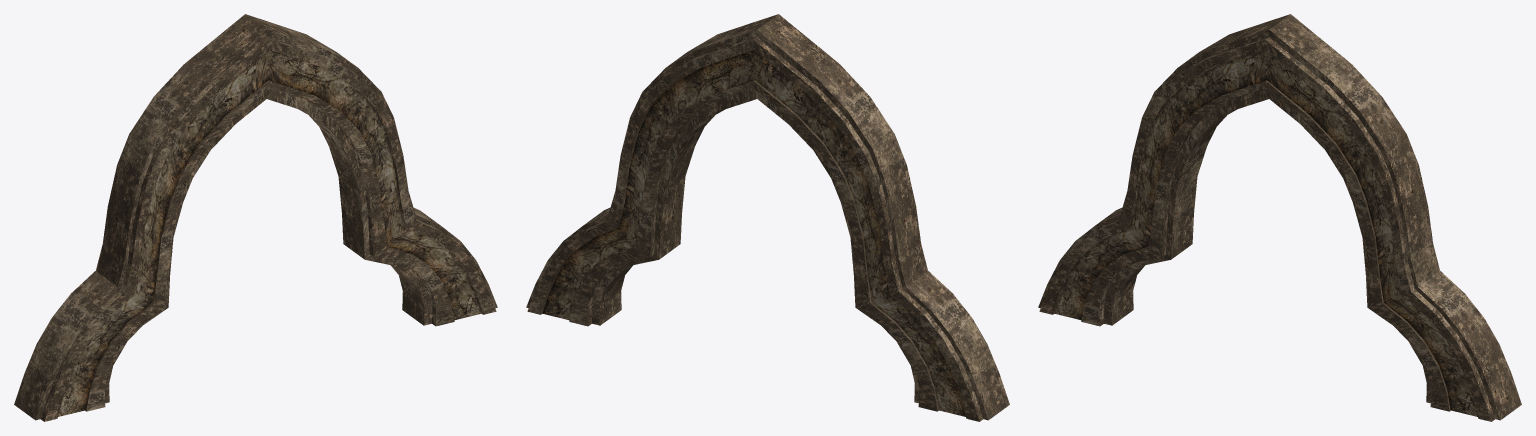
The model's file is materials_5_arch_6.fbx.
3 renders of one model, left to right at view 1: azimuth 30°, elevation 25°; view 2: azimuth 150°, elevation 25°; view 3: azimuth 330°, elevation 25°, orthographic.
Visible parts, largest first — view 1: materials_5_arch_6; view 2: materials_5_arch_6; view 3: materials_5_arch_6.
Part boxes in pixels (<box>): materials_5_arch_6: <box>14,14,497,421</box>; materials_5_arch_6: <box>526,14,1009,421</box>; materials_5_arch_6: <box>1038,14,1521,421</box>.
Bounding box in the file's own units: 161 × 111 × 17.45.
